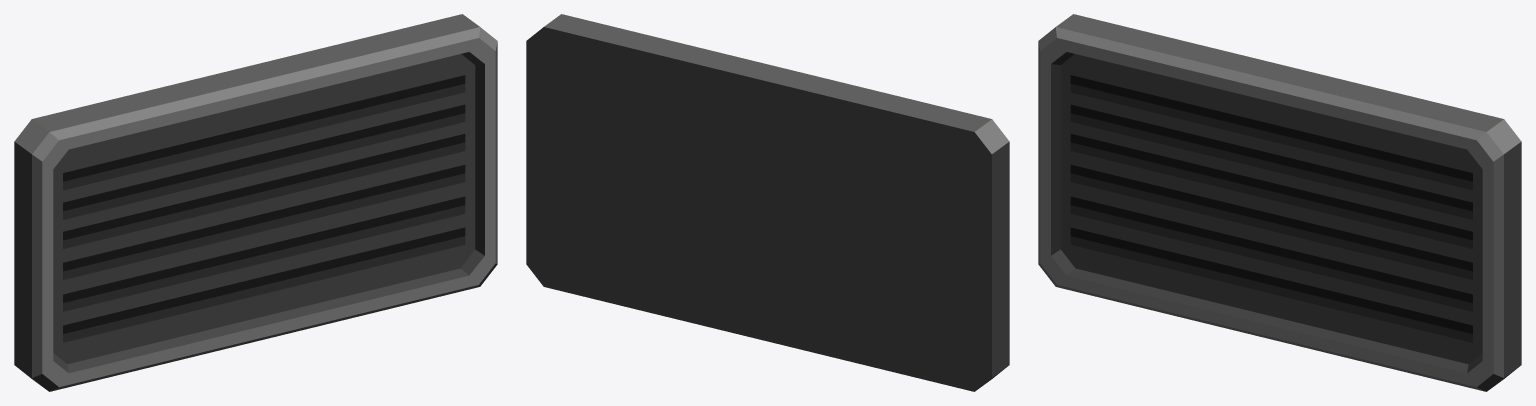
File: CR_AirConditioner.fbx
The picture shows the model from 3 angles, left to right: view 1: azimuth 30°, elevation 25°; view 2: azimuth 150°, elevation 25°; view 3: azimuth 330°, elevation 25°; orthographic projection.
Parts seen in each view (by area): view 1: CR_AirConditioner; view 2: CR_AirConditioner; view 3: CR_AirConditioner.
Part boxes in pixels (x1,y1,x2,y2): CR_AirConditioner: [14, 14, 497, 391]; CR_AirConditioner: [526, 14, 1009, 391]; CR_AirConditioner: [1038, 14, 1521, 391].
Size of the model in its own units: 1.28 by 0.6856 by 0.1049.
